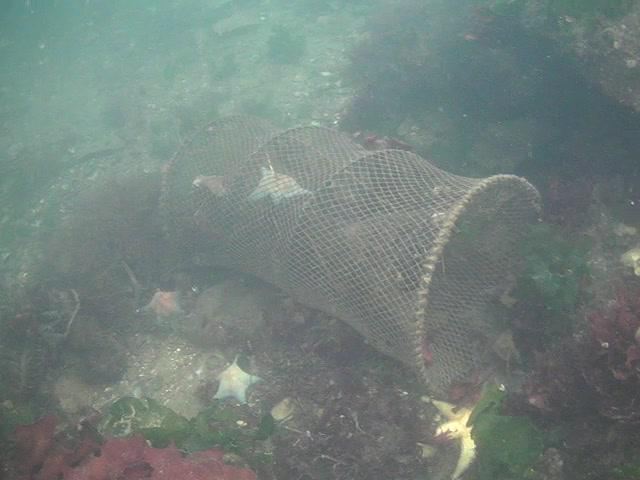spring fish trap: (157, 110, 549, 405)
